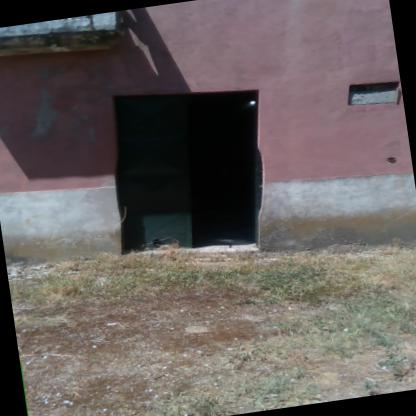open: (98, 66, 290, 266)
